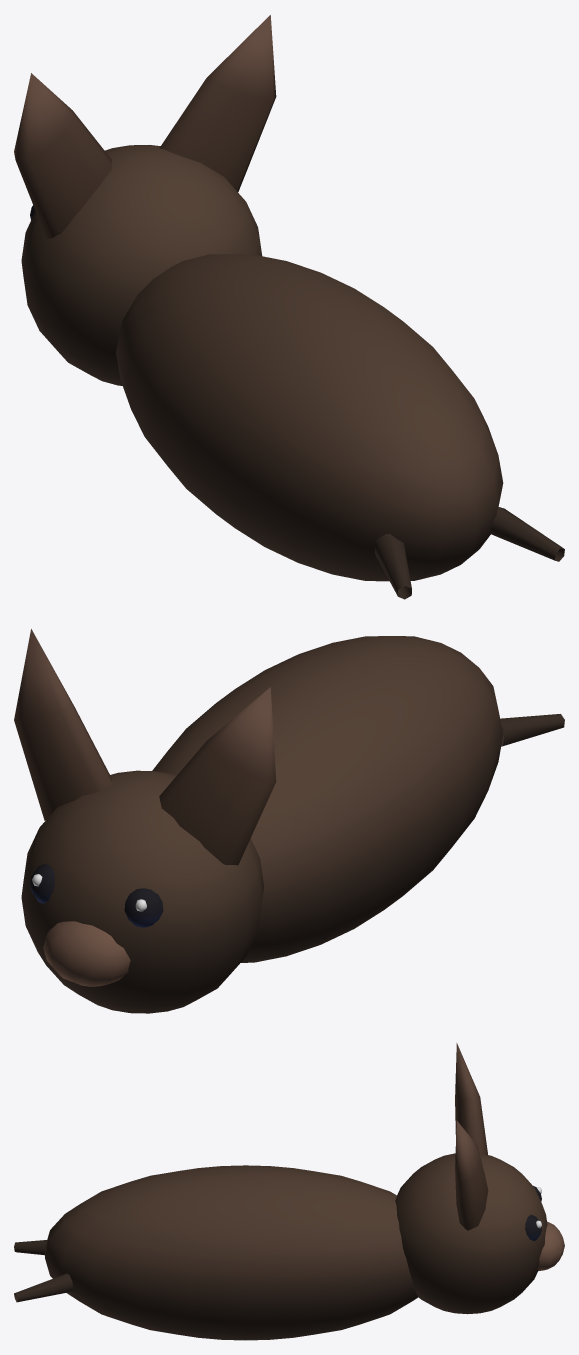
File: Koumori_Body.fbx
3 views of the same model, one above another, from view 1: azimuth 30°, elevation 25°; view 2: azimuth 150°, elevation 25°; view 3: azimuth 270°, elevation 25° (orthographic). The views are drawn at different scales.
Visible parts, largest first — view 1: Koumori_Body; view 2: Koumori_Body; view 3: Koumori_Body.
Boxes of the visible parts, <box> form: Koumori_Body: <box>14,15,564,599</box>; Koumori_Body: <box>14,629,564,1013</box>; Koumori_Body: <box>14,1043,564,1340</box>.
Bounding box in the file's own units: 0.7401 × 1.02 × 2.04.
